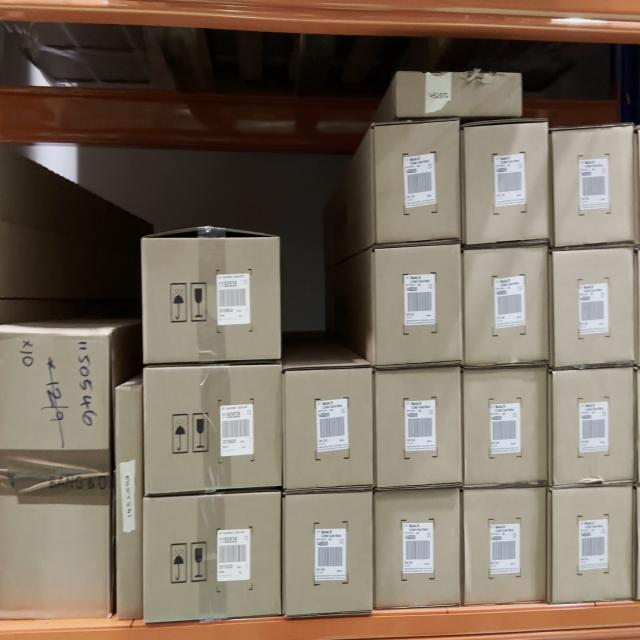box: (144, 238, 279, 362), (146, 494, 281, 618), (145, 370, 282, 488), (284, 368, 372, 487), (283, 495, 372, 612), (374, 246, 460, 364), (373, 126, 461, 241), (374, 491, 460, 607), (464, 370, 548, 485), (465, 125, 547, 242), (550, 371, 634, 484), (375, 373, 462, 482), (550, 130, 634, 242), (551, 253, 635, 362), (461, 491, 545, 599), (464, 255, 548, 362), (550, 492, 633, 600), (116, 390, 141, 617), (397, 74, 521, 116)
